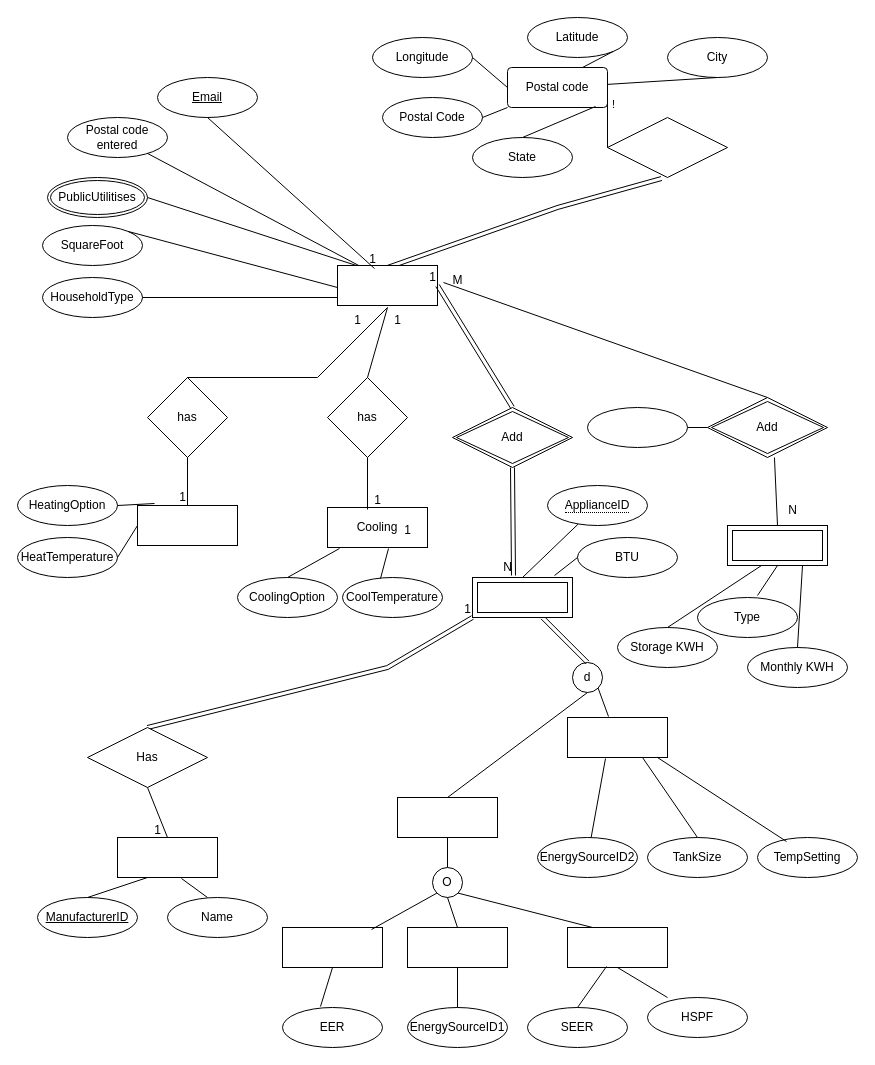
This 875x1065 diagram has some shape labels left out. Each missing label, with the centre of its shape:
AirConditioner: (332,947)
Airhandler: (447,817)
Appliance: (522,597)
GeneratorID: (637,427)
Heater: (457,947)
Heating: (187,525)
HeatPump: (617,947)
HouseholdInfo: (387,285)
Manufacturer: (167,857)
PowerGenerator: (777,545)
Validate: (667,147)
WaterHeater: (617,737)
